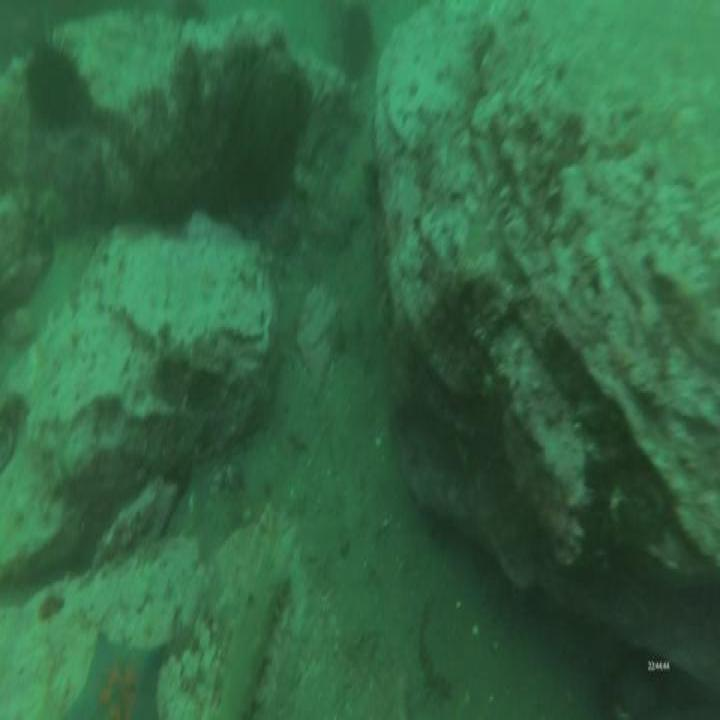echinus: (22, 21, 91, 146), (337, 0, 377, 89)
holothurian: (216, 560, 297, 720)
starfish: (58, 620, 170, 720)
